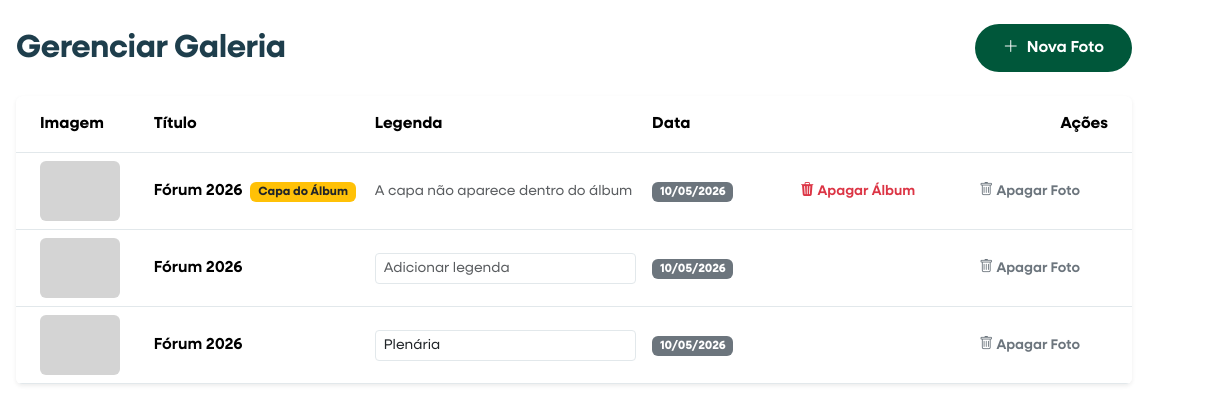
Test: GalleryList — legenda das fotos › Enter salva e apagar o texto remove a legenda
This screenshot has width=1214, height=403.
Clear the field named "Legenda da foto 3": (505, 345) top-left (375, 330), bottom-right (636, 360)
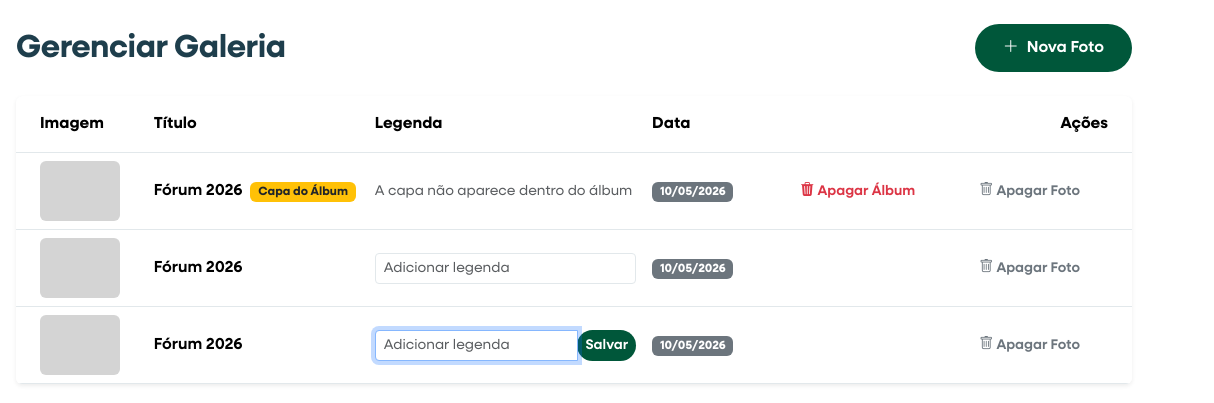
Press Enter
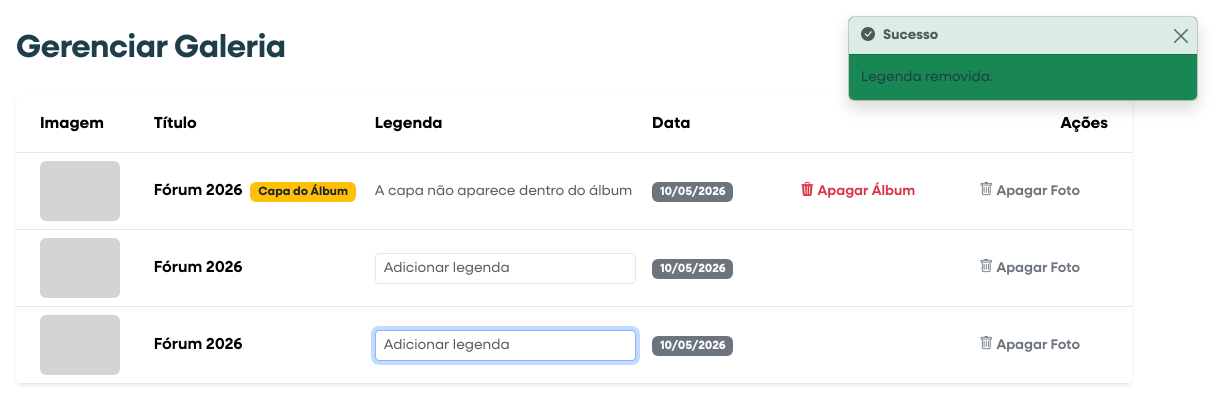
Check: the text "Legenda removida." is shown, box top-left (861, 70), bottom-right (993, 84)
